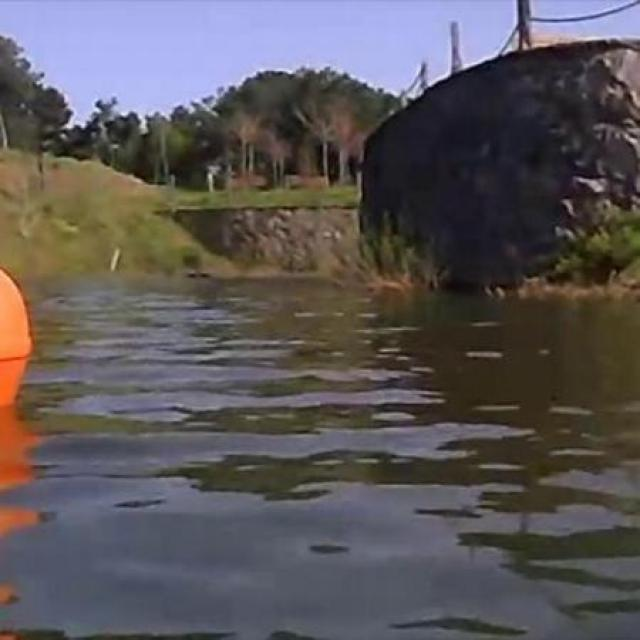buoy: (0, 267, 31, 405)
